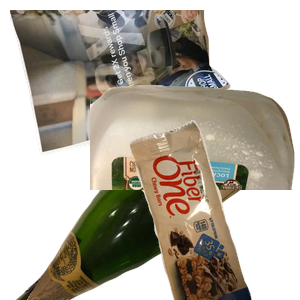glass: (13, 120, 253, 300)
paper: (10, 10, 233, 158)
plastic: (90, 82, 300, 262)
trash: (127, 120, 300, 300)
